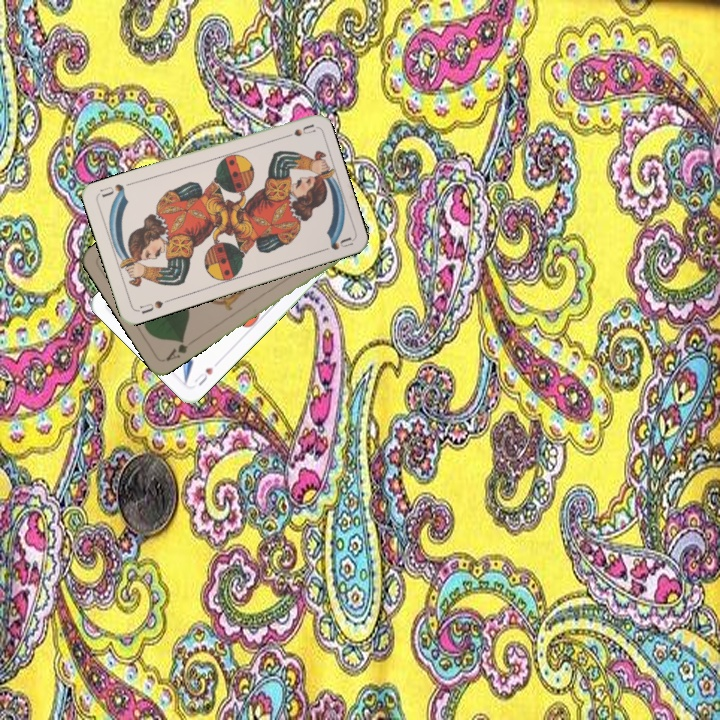GA: (162, 335, 197, 364)
HU: (190, 358, 221, 388)
SU: (276, 120, 317, 142), (136, 295, 173, 317)
